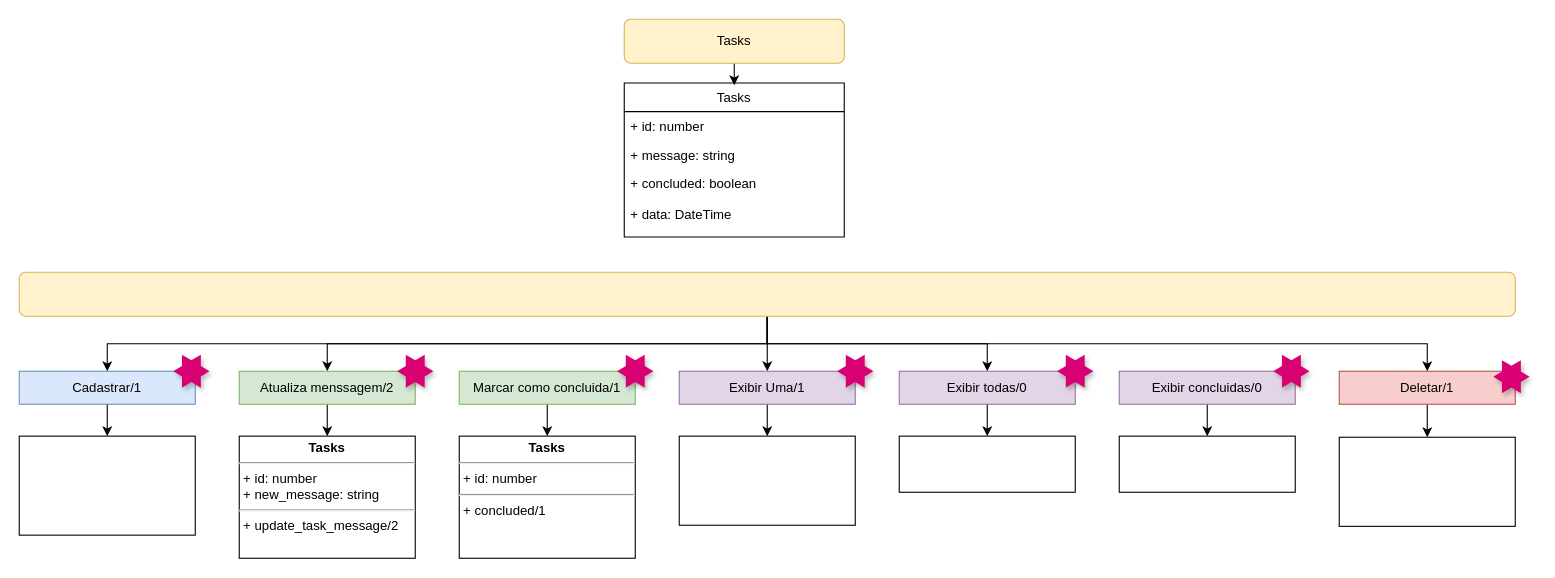
This 1555x578 diagram has some shape labels left out. Here are the shapes that lost their labels. From the top down, the centre of each, then its label:
At (x=766, y=293): "Execute".
At (x=766, y=480): "Tasks + id: number + show_task/1".
At (x=986, y=463): "Tasks + show_all/0".
At (x=1206, y=463): "Tasks + show_al_concludedl/0".
At (x=1426, y=481): "Tasks + id: number + delete_task/1".
At (x=106, y=485): "Tasks + message: string + register_task/1".
